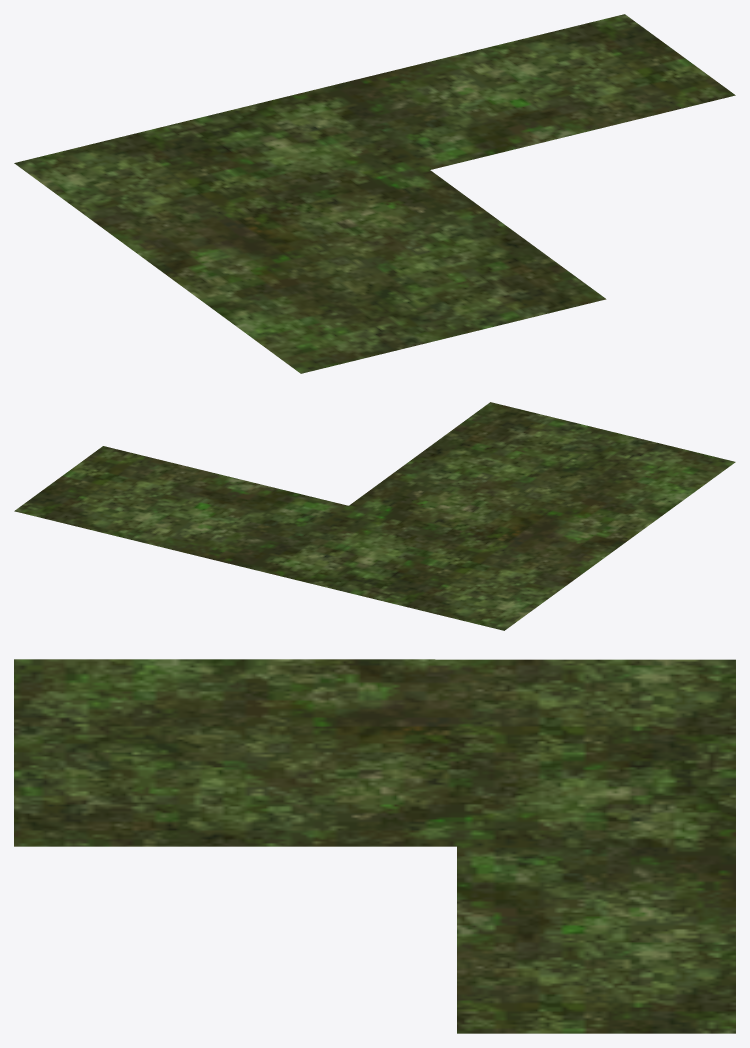
The model's file is OVERHILL_A_01_LINE227.fbx.
The picture shows the model from 3 angles, top to bottom: view 1: azimuth 30°, elevation 25°; view 2: azimuth 150°, elevation 25°; view 3: azimuth 270°, elevation 25°; orthographic projection. The views are drawn at different scales.
Parts seen in each view (by area): view 1: OVERHILL_A_01_LINE227; view 2: OVERHILL_A_01_LINE227; view 3: OVERHILL_A_01_LINE227.
Boxes of the visible parts, <box> form: OVERHILL_A_01_LINE227: <box>14,14,735,373</box>; OVERHILL_A_01_LINE227: <box>14,402,735,630</box>; OVERHILL_A_01_LINE227: <box>14,659,735,1033</box>.
Size of the model in its own units: 40000 by 0.0061 by 32591.
Materials: 1 (1 with a texture image).
